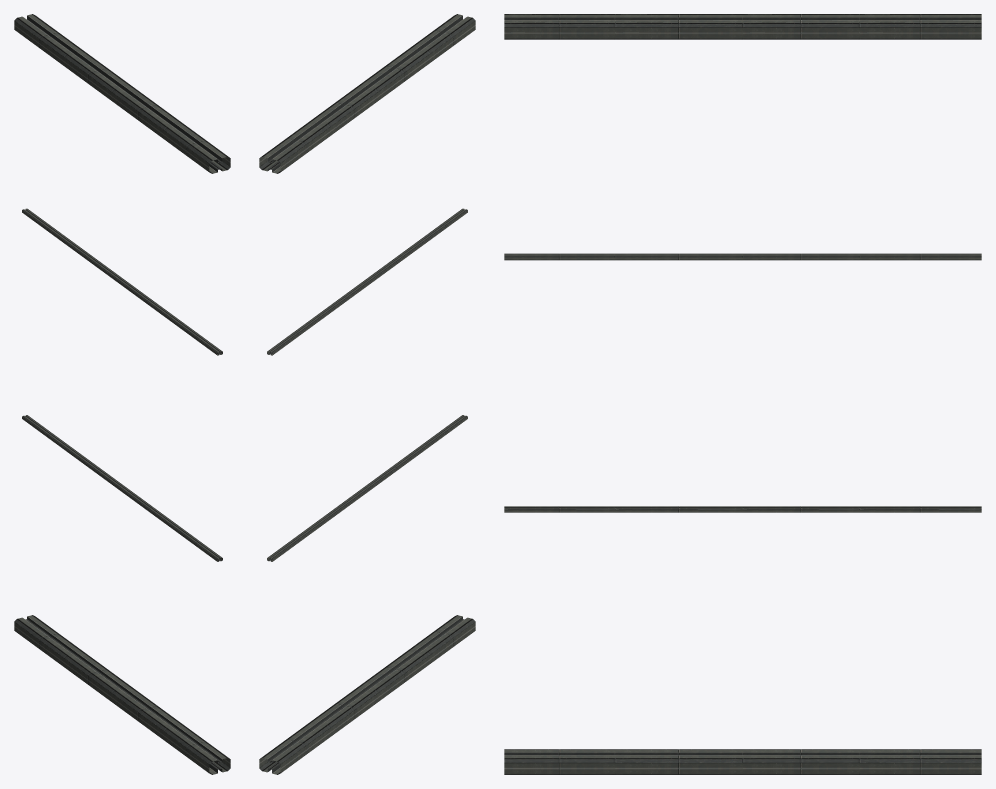
File: Dock_WindowFrameStrt_MID.FBX
The picture shows the model from 3 angles, left to right: view 1: azimuth 30°, elevation 25°; view 2: azimuth 150°, elevation 25°; view 3: azimuth 270°, elevation 25°; orthographic projection. The views are drawn at different scales.
Visible parts, largest first — view 1: Dock_WindowFrameStrt_MID; view 2: Dock_WindowFrameStrt_MID; view 3: Dock_WindowFrameStrt_MID.
Boxes of the visible parts, x1,y1,x2,y2 form: Dock_WindowFrameStrt_MID: [14, 14, 230, 774]; Dock_WindowFrameStrt_MID: [259, 14, 475, 774]; Dock_WindowFrameStrt_MID: [504, 14, 981, 774].
Bounding box in the file's own units: 0.3797 × 10.42 × 6.
